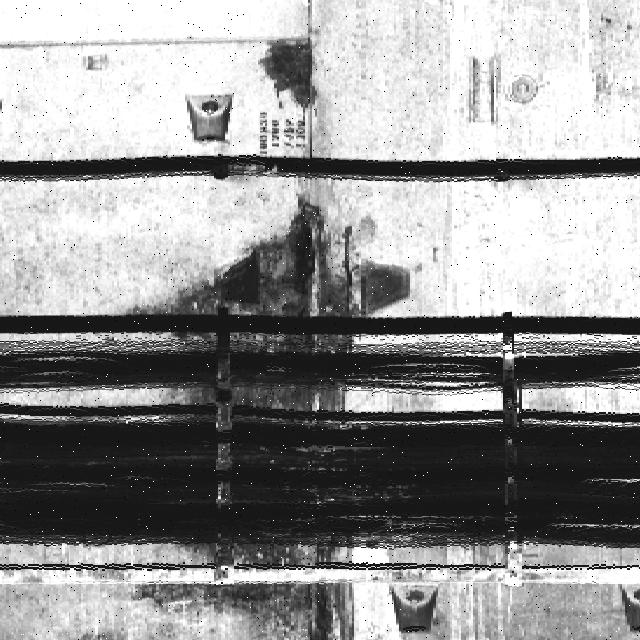leakage: (138, 197, 383, 417), (255, 16, 330, 117)
